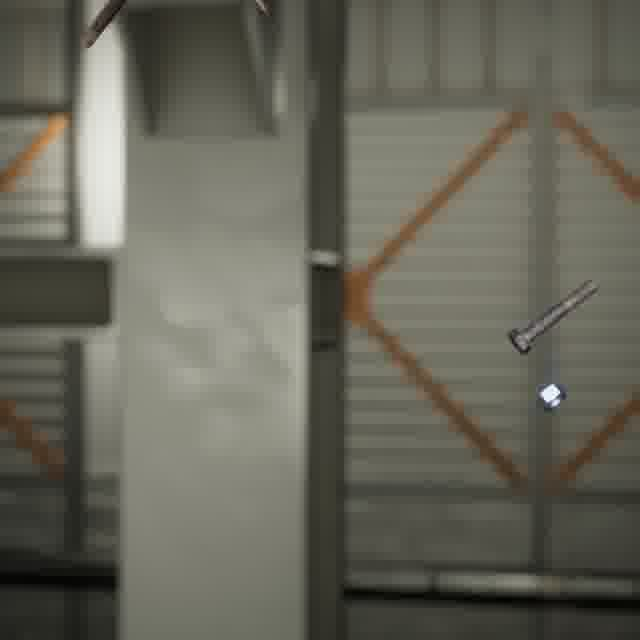bolt: (503, 274, 602, 359), (75, 0, 131, 53)
nut: (530, 378, 572, 415)
